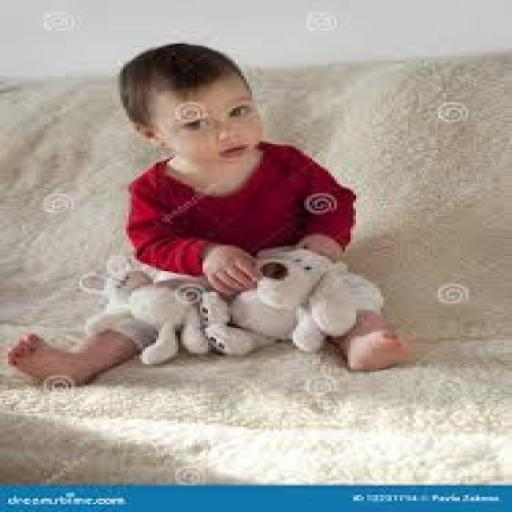baby: (10, 42, 411, 384)
